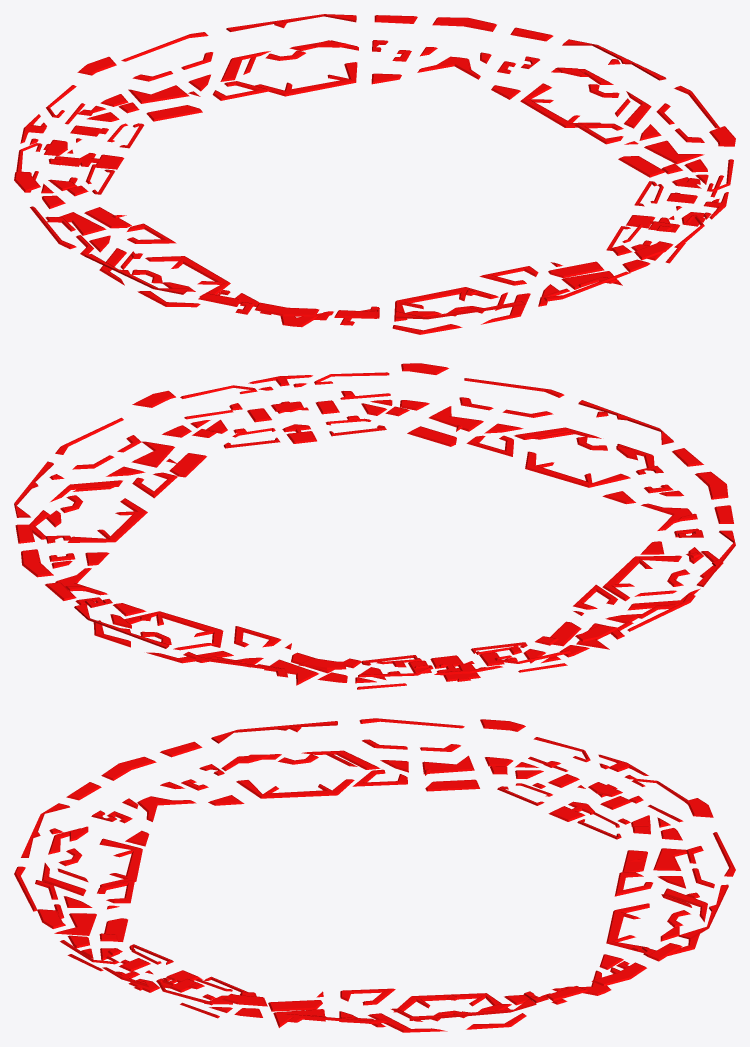
The model's file is Top_Floor_Rooftops.fbx.
The picture shows the model from 3 angles, top to bottom: view 1: azimuth 30°, elevation 25°; view 2: azimuth 150°, elevation 25°; view 3: azimuth 270°, elevation 25°; orthographic projection.
Parts seen in each view (by area): view 1: Object529, Object459, Object476, Object406, Object504, Object399, Object522, Object470, Object417, Object458, Object449, Object521 (+3 smaller); view 2: Object459, Object406, Object476, Object529, Object417, Object431, Object450, Object504, Object449, Object470, Object399; view 3: Object476, Object529, Object459, Object406, Object504, Object450, Object488, Object397, Object418, Object489, Object399, Object479 (+4 smaller).
Boxes of the visible parts, x1,y1,x2,y2 form: Object529: [255, 62, 357, 96]; Object459: [394, 287, 498, 321]; Object476: [145, 256, 230, 297]; Object406: [520, 83, 600, 127]; Object504: [20, 114, 67, 155]; Object399: [432, 17, 496, 31]; Object522: [128, 85, 189, 103]; Object470: [255, 302, 319, 316]; Object417: [644, 140, 704, 164]; Object458: [395, 301, 525, 319]; Object449: [548, 261, 604, 278]; Object521: [146, 91, 202, 121]; Object459: [525, 451, 630, 487]; Object406: [67, 498, 147, 542]; Object476: [602, 555, 681, 601]; Object529: [124, 611, 223, 647]; Object417: [131, 441, 174, 467]; Object431: [248, 375, 312, 412]; Object450: [429, 406, 483, 431]; Object504: [434, 663, 502, 681]; Object449: [407, 425, 462, 446]; Object470: [695, 471, 728, 499]; Object399: [21, 549, 53, 577]; Object476: [236, 779, 354, 798]; Object529: [606, 903, 649, 953]; Object459: [99, 838, 142, 886]; Object406: [393, 993, 510, 1012]; Object504: [588, 754, 648, 796]; Object450: [54, 913, 96, 935]; Object488: [424, 769, 479, 791]; Object397: [409, 999, 536, 1020]; Object418: [268, 991, 323, 1011]; Object489: [422, 755, 474, 774]; Object399: [591, 962, 646, 986]; Object479: [211, 721, 337, 743].
Size of the model in its own units: 18853 by 1102 by 18852.
